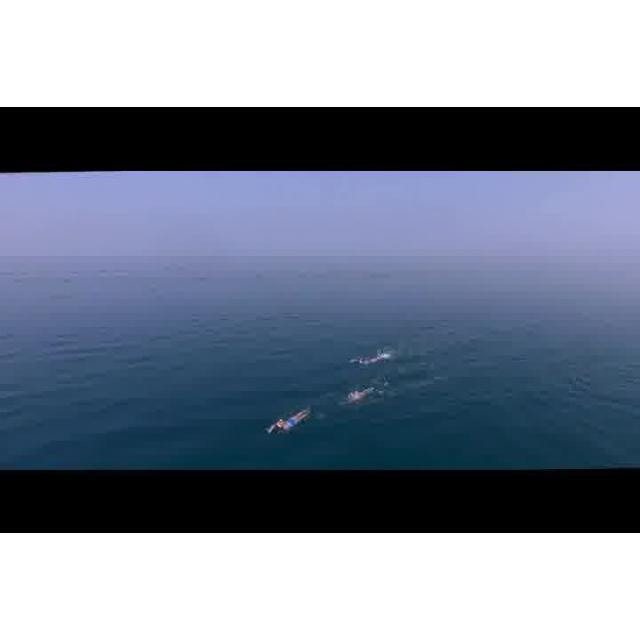human: (272, 407, 310, 436), (344, 386, 378, 410), (356, 345, 389, 367)
